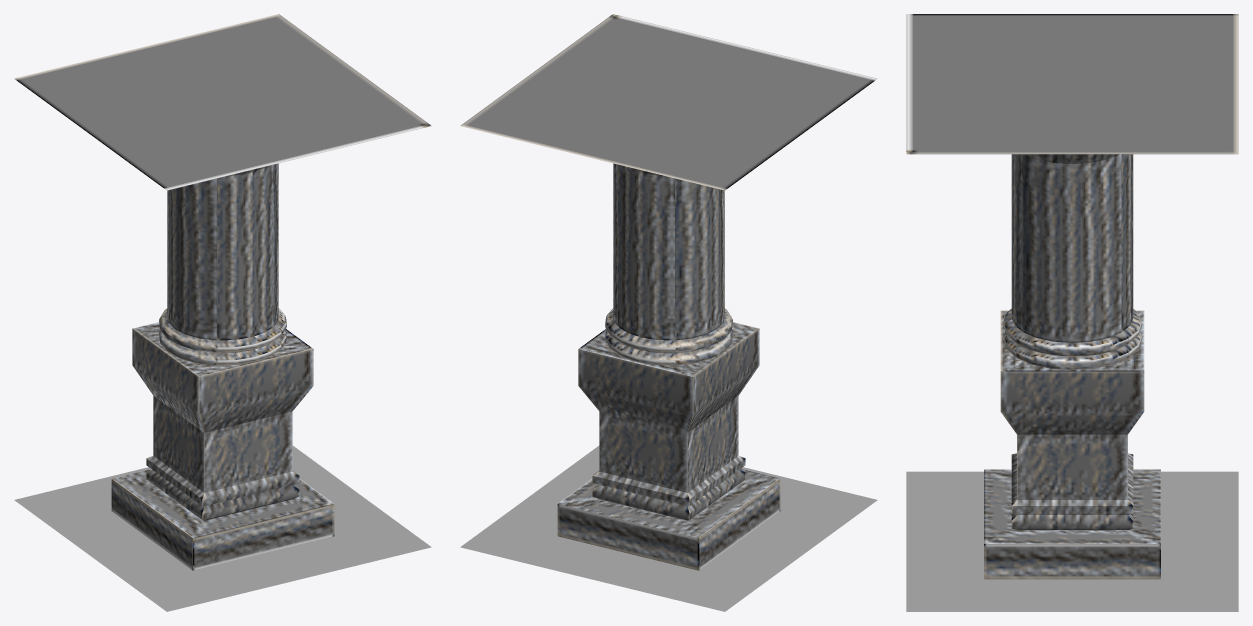
The model's file is Pillar.fbx.
3 renders of one model, left to right at view 1: azimuth 30°, elevation 25°; view 2: azimuth 150°, elevation 25°; view 3: azimuth 270°, elevation 25°, orthographic. The views are drawn at different scales.
Visible parts, largest first — view 1: pCylinder7, pCube4, polySurface14; view 2: pCylinder7, pCube4, polySurface14; view 3: pCylinder7, pCube4, polySurface14.
Part boxes in pixels (<box>): pCylinder7: <box>14,14,431,365</box>; pCube4: <box>111,322,334,570</box>; polySurface14: <box>14,445,431,611</box>; pCylinder7: <box>460,14,877,365</box>; pCube4: <box>557,322,780,570</box>; polySurface14: <box>460,445,877,611</box>; pCylinder7: <box>906,14,1238,369</box>; pCube4: <box>984,310,1160,579</box>; polySurface14: <box>906,471,1238,611</box>.
Size of the model in its own units: 3 by 4.56 by 3.
Materials: 2 (1 with a texture image).
